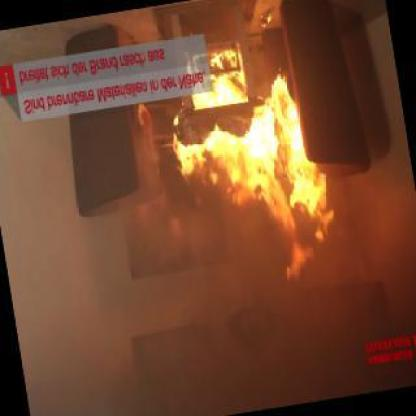Fire: (164, 82, 338, 287)
